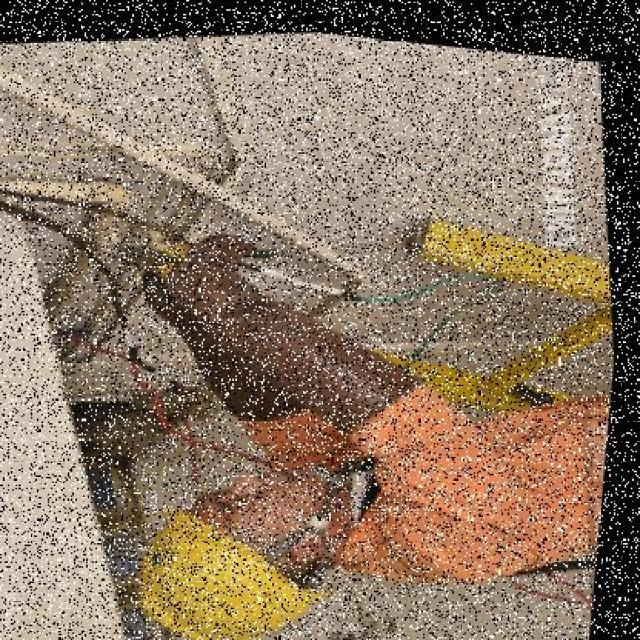helmet: (125, 462, 349, 639)
